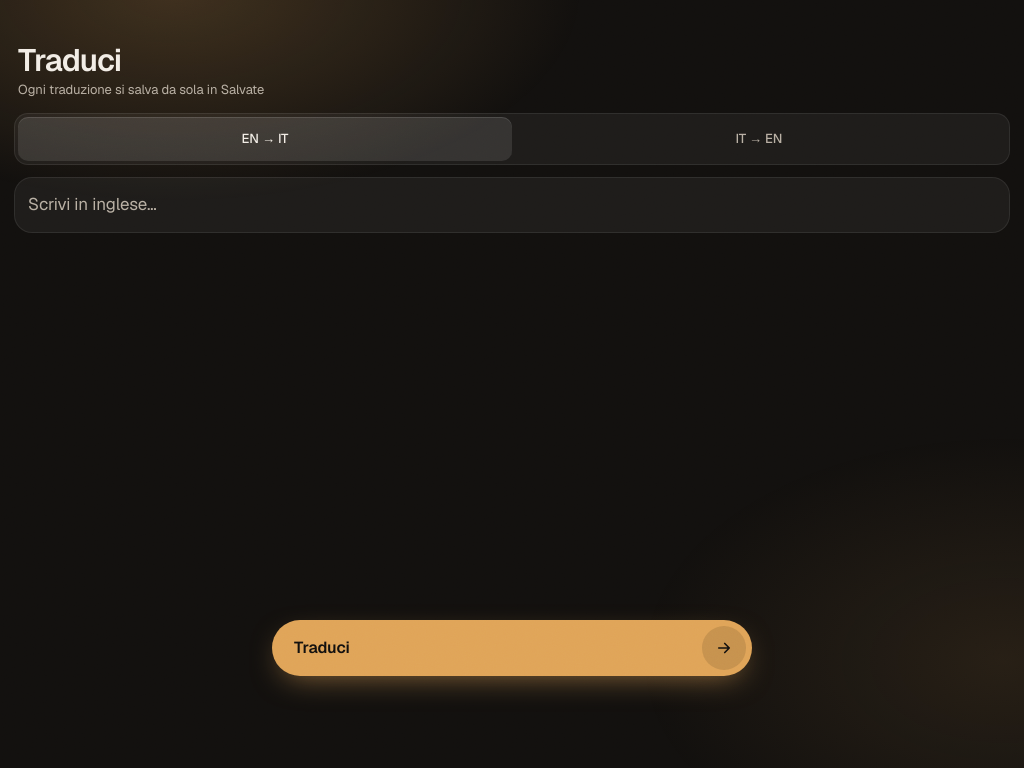
Test: Traduci › shows the error card with Riprova when the request fails
In the field named "Testo da tradurre": (512, 205) [14,177,1010,233], type "station"
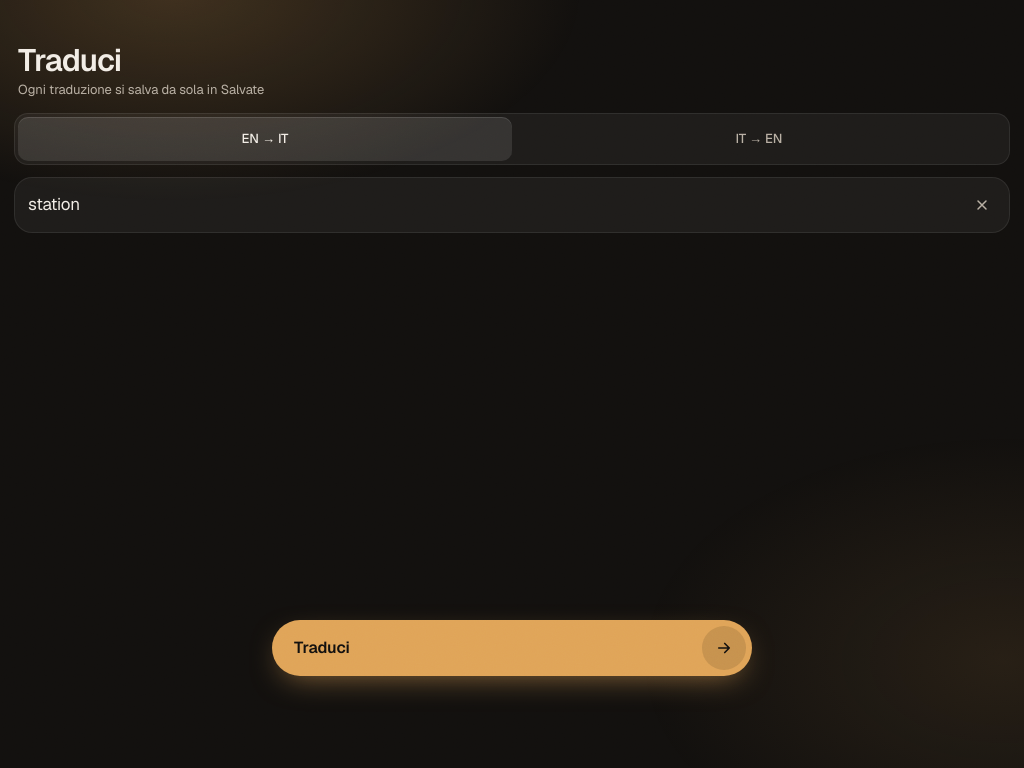
Press Enter in the field named "Testo da tradurre", box [14,177,1010,233]
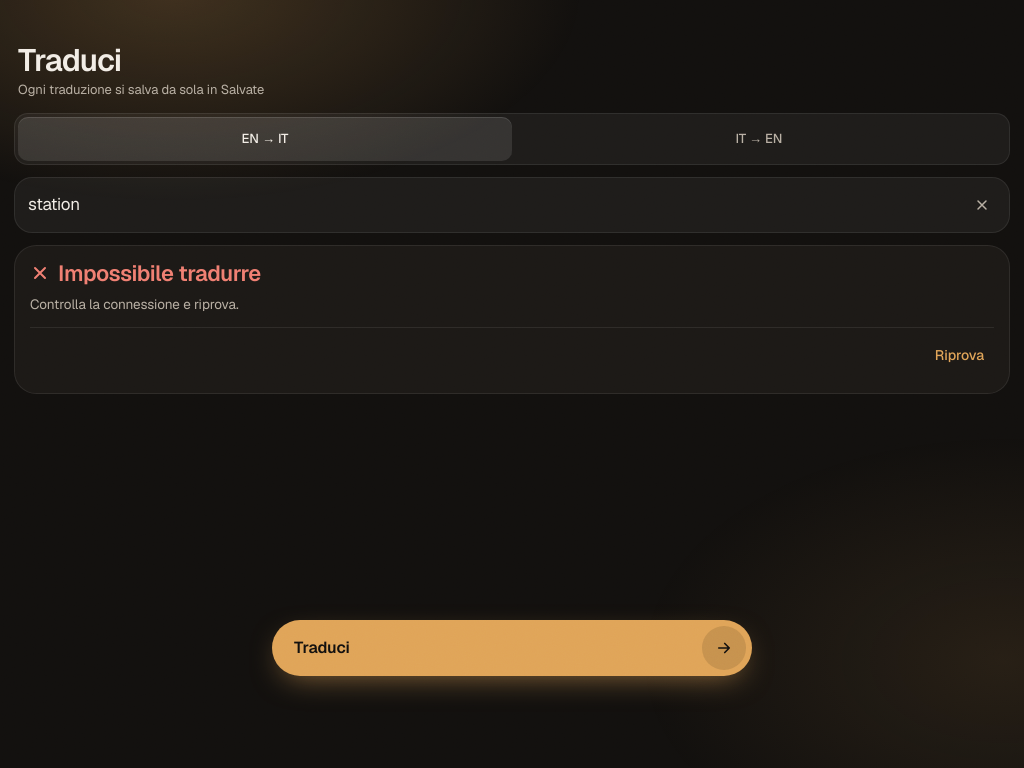
Result: the text "Impossibile tradurre" is shown at [58,259,261,287]
Result: the text "Controlla la connessione e riprova." is shown at [30,295,239,313]
Click the button "Riprova": (959, 356) [925,334,994,378]
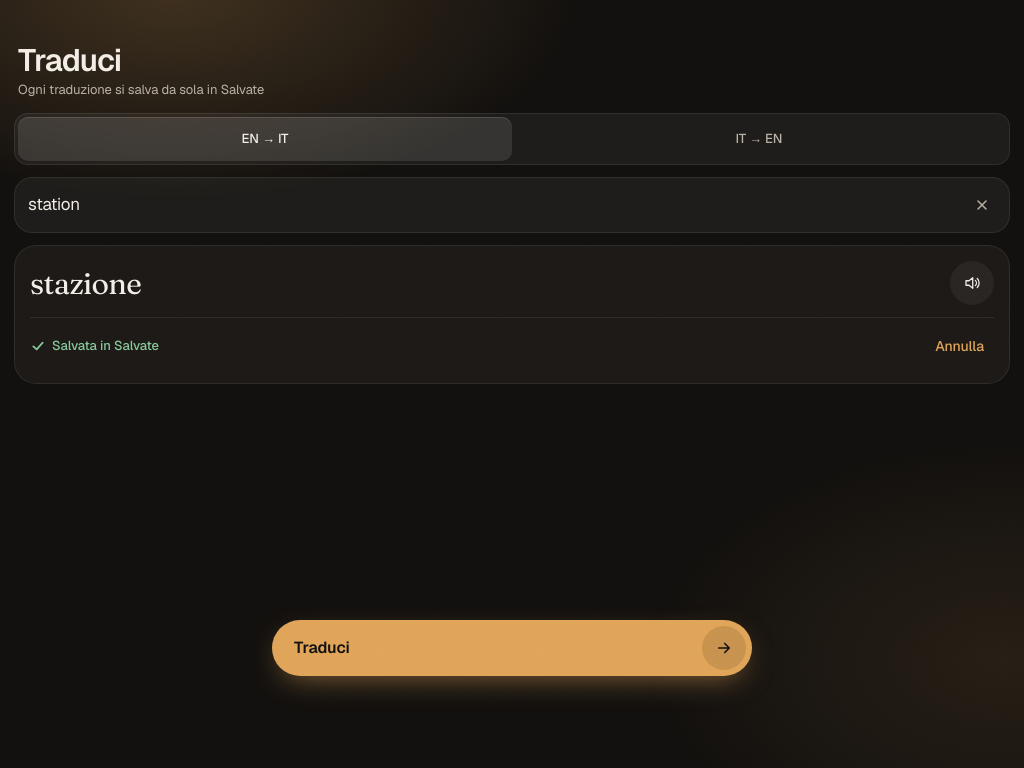
Result: the text "stazione" is shown at [30,266,141,300]
